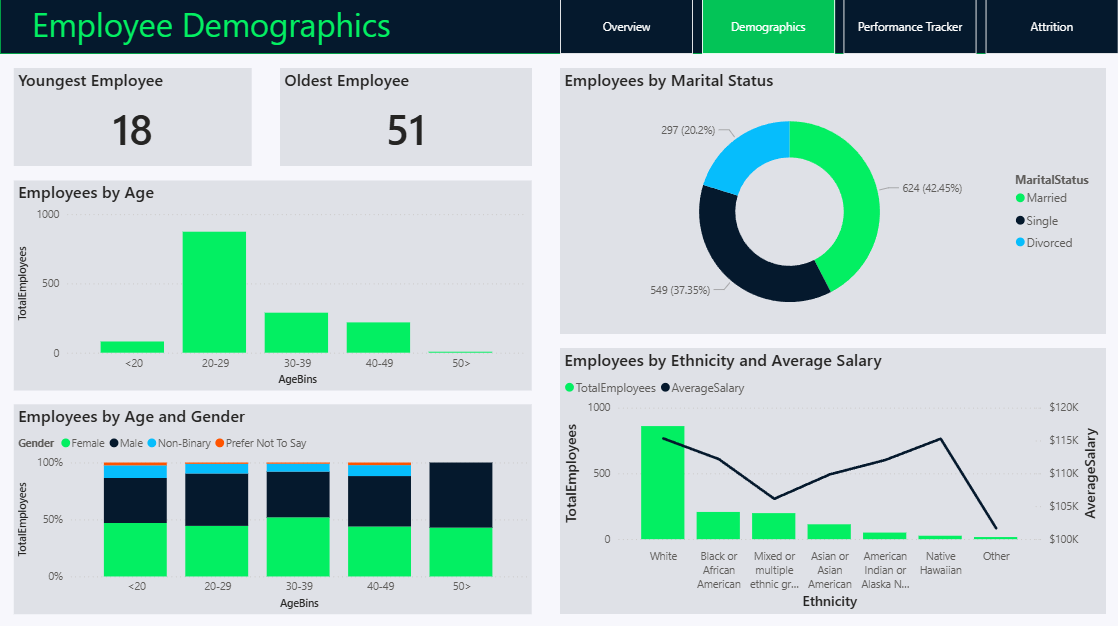

What the dashboard file says about the page in this screenshot:
{"tool":"powerbi","page":{"name":"Demographics","canvas":[1280,720],"ordinal":1},"visuals":[{"type":"card","title":"Youngest Employee","fields":{"Values":["Sum(DimEmployee.Age)"]},"box":[16,80,272,112],"z":0},{"type":"card","title":"Oldest Employee","fields":{"Values":["Sum(DimEmployee.Age)"]},"box":[320,80,288,112],"z":1000},{"type":"columnChart","title":"Employees by Age","fields":{"Category":["DimEmployee.AgeBins"],"Y":["_Measures.TotalEmployees"]},"box":[16,208,592,240],"z":2000},{"type":"hundredPercentStackedColumnChart","title":"Employees by Age and Gender","fields":{"Category":["DimEmployee.AgeBins"],"Series":["DimEmployee.Gender"],"Y":["_Measures.TotalEmployees"]},"box":[16,464,592,240],"z":3000},{"type":"donutChart","title":"Employees by Marital Status","fields":{"Category":["DimEmployee.MaritalStatus"],"Y":["_Measures.TotalEmployees"]},"box":[640,80,624,304],"z":4000},{"type":"lineStackedColumnComboChart","title":"Employees by Ethnicity and Average Salary","fields":{"Category":["DimEmployee.Ethnicity"],"Y":["_Measures.TotalEmployees"],"Y2":["_Measures.AverageSalary"]},"box":[640,400,624,304],"z":5000},{"type":"shape","box":[0,0,1280,64],"z":6000},{"type":"textbox","box":[32,0,624,64],"z":7000},{"type":"pageNavigator","box":[640,0,640,64],"z":8000}]}

Visuals, with their boxes in screenshot pixels (x1, y1, x2, y2), scaled from the page's 1280x720 canvas onto the 1118x626 screenshot:
"Youngest Employee" card: bbox(14, 70, 252, 167)
"Oldest Employee" card: bbox(280, 70, 531, 167)
"Employees by Age" columnChart: bbox(14, 181, 531, 390)
"Employees by Age and Gender" hundredPercentStackedColumnChart: bbox(14, 403, 531, 612)
"Employees by Marital Status" donutChart: bbox(559, 70, 1104, 334)
"Employees by Ethnicity and Average Salary" lineStackedColumnComboChart: bbox(559, 348, 1104, 612)
shape: bbox(0, 0, 1117, 56)
textbox: bbox(28, 0, 573, 56)
pageNavigator: bbox(559, 0, 1117, 56)
